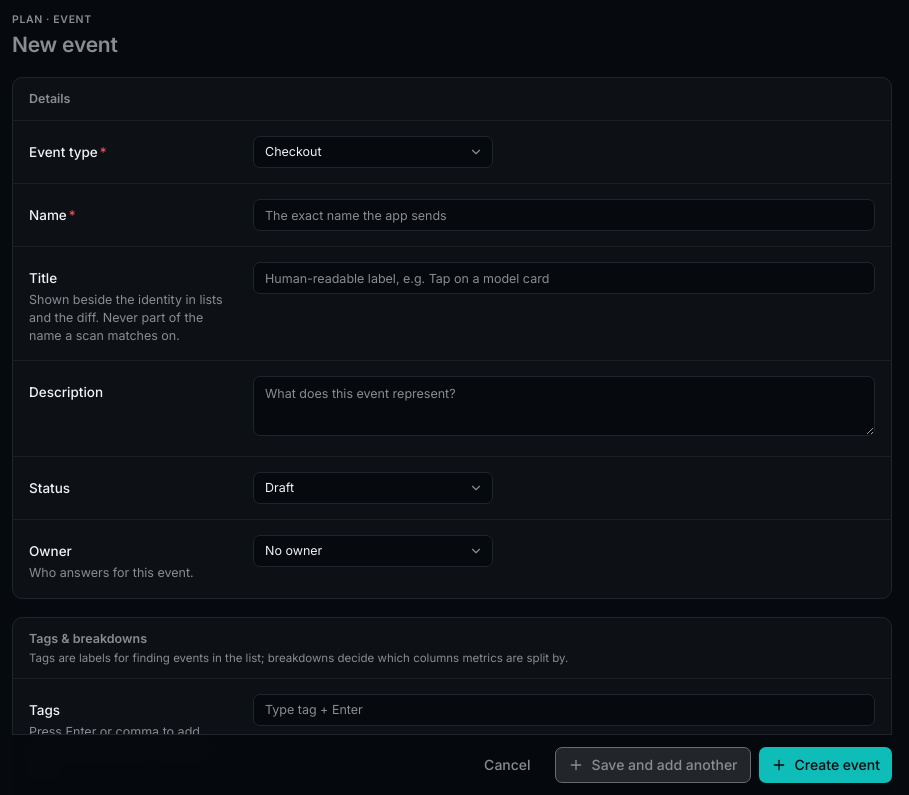
Test: EventEditPage — a question raised while the event is being authored › keeps the words when the note fails to post, on the event that now exists
Type "checkout:completed" into the field labelled "Name" at point(564, 215), box [253, 199, 875, 231]
(page scrolled)
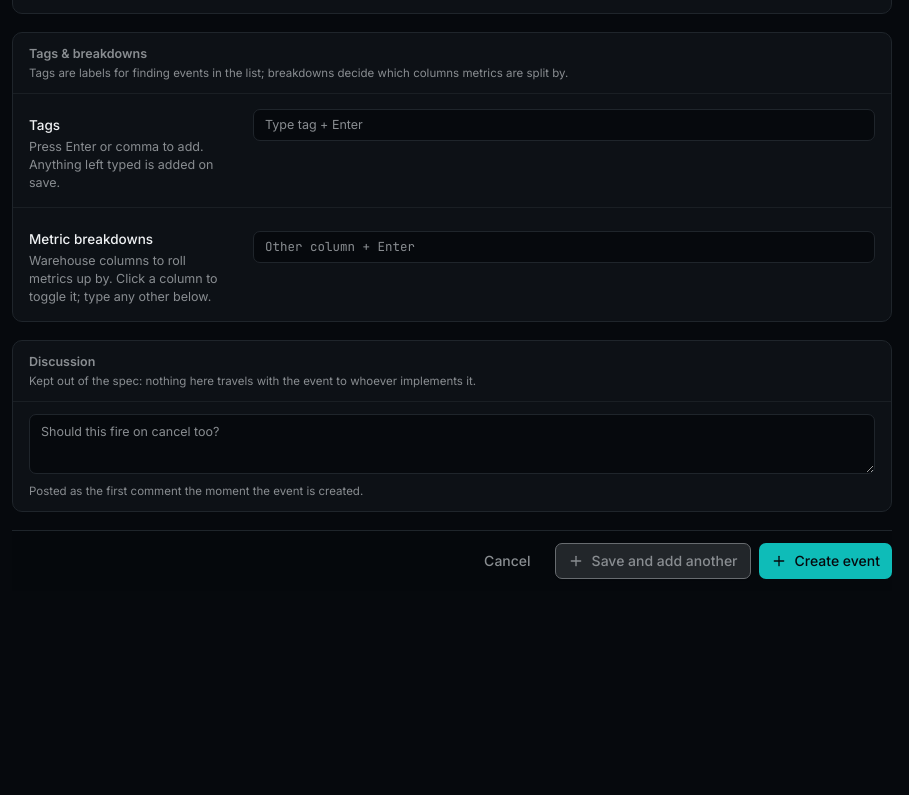
Type "Does this fire on cancel?" into the text box named "posted as the first comment" at point(452, 444), box [29, 414, 875, 474]
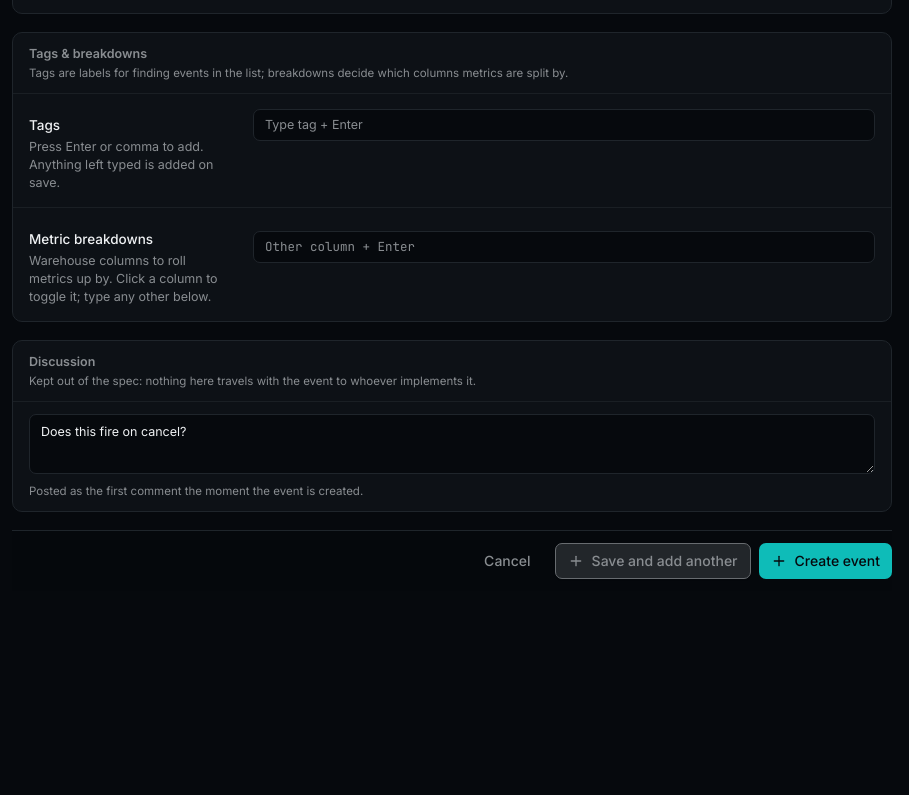
Click the button "Create event" at point(825, 561), box [758, 543, 892, 579]
(page scrolled)
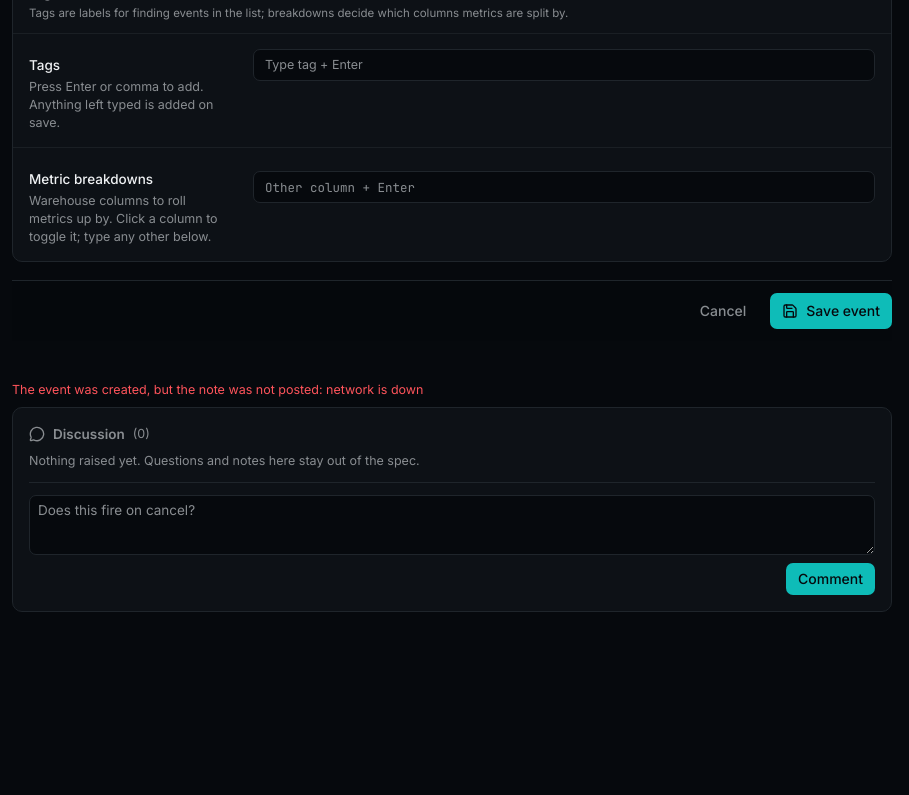
Check: the text box named "Write a comment" holds "Does this fire on cancel?", box [29, 495, 875, 555]
Check: the message shows "note was not posted", box [12, 382, 423, 397]
